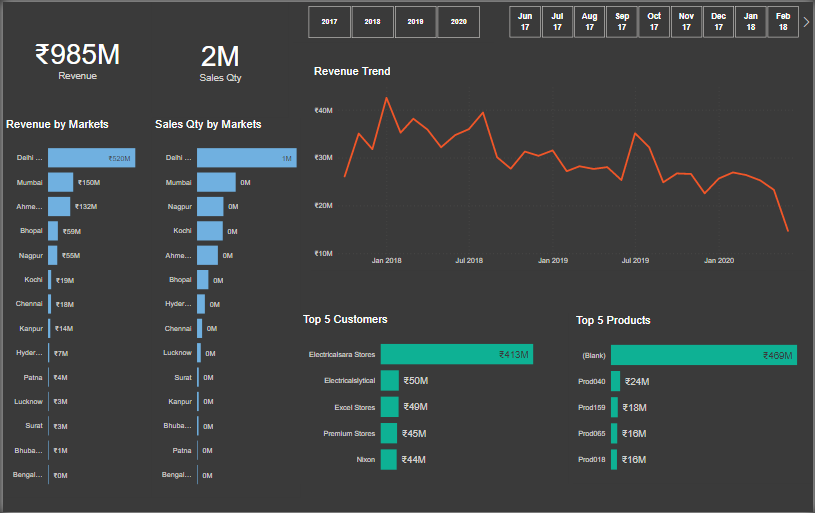

Layout of this report page (visuals, bound fields, positions):
{"tool":"powerbi","page":{"name":"Key Insights","canvas":[1350,850],"ordinal":0},"visuals":[{"type":"card","fields":{"Values":["BaseMeasures (2).Revenue"]},"box":[0,0,247.9,184.6],"z":0},{"type":"card","fields":{"Values":["BaseMeasures (2).Sales Qty"]},"box":[247.9,0,227.9,193.1],"z":1000},{"type":"barChart","title":"Revenue by Markets","fields":{"Y":["BaseMeasures (2).Revenue"],"Category":["sales markets.markets_name"]},"box":[0,193.1,247.9,631.9],"z":2000},{"type":"barChart","title":"Sales Qty by Markets","fields":{"Y":["BaseMeasures (2).Sales Qty"],"Category":["sales markets.markets_name"]},"box":[247.9,193.1,247.9,631.9],"z":3000},{"type":"slicer","fields":{"Values":["sales date.year"]},"box":[483.3,0,335,66.7],"z":4000},{"type":"slicer","fields":{"Values":["sales date.cy_date"]},"box":[818.6,0,531.7,66.5],"z":5000},{"type":"barChart","title":"Top 5 Customers","fields":{"Y":["BaseMeasures (2).Revenue"],"Category":["sales customers.custmer_name"]},"box":[495,518.3,446.7,285],"z":6000},{"type":"barChart","title":"Top 5 Products","fields":{"Y":["BaseMeasures (2).Revenue"],"Category":["sales products.product_code"]},"box":[950.7,519.2,399.5,282.8],"z":7000},{"type":"lineChart","title":"Revenue Trend","fields":{"Y":["BaseMeasures (2).Revenue"],"Category":["sales date.cy_date"]},"box":[513.3,105,825,341.7],"z":8000}]}

Visuals, with their boxes in screenshot pixels (x1, y1, x2, y2), scaled from the page's 1350x850 canvas onto the 815x513 screenshot:
card - BaseMeasures (2).Revenue: box(0, 0, 150, 111)
card - BaseMeasures (2).Sales Qty: box(150, 0, 287, 117)
"Revenue by Markets" barChart: box(0, 117, 150, 498)
"Sales Qty by Markets" barChart: box(150, 117, 299, 498)
slicer - sales date.year: box(292, 0, 494, 40)
slicer - sales date.cy_date: box(494, 0, 814, 40)
"Top 5 Customers" barChart: box(299, 313, 569, 485)
"Top 5 Products" barChart: box(574, 313, 814, 484)
"Revenue Trend" lineChart: box(310, 63, 808, 270)
